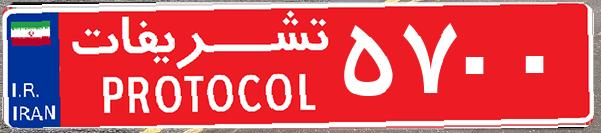0: (460, 20, 520, 115), (520, 20, 580, 115)
5: (340, 20, 400, 115)
7: (400, 20, 460, 115)
تشریفات: (60, 8, 340, 125)
